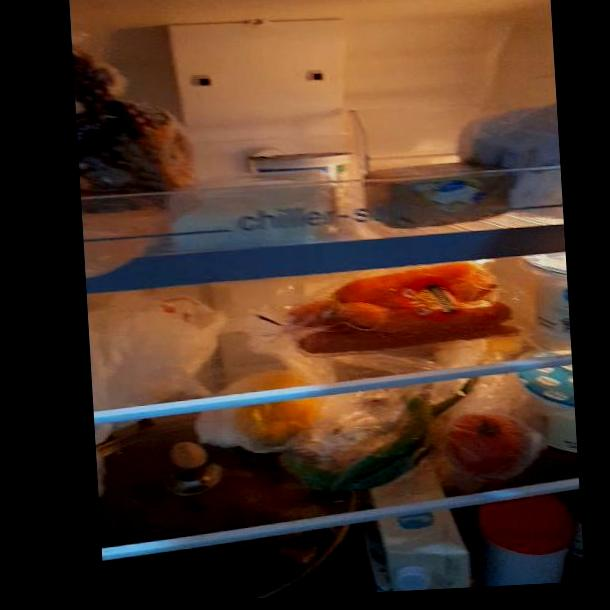bread: (75, 93, 192, 208)
butter: (372, 163, 499, 221)
carrot: (307, 272, 515, 348)
cheese: (178, 177, 327, 240)
green chilies: (348, 404, 444, 473)
lemon: (240, 372, 318, 439)
milk: (371, 513, 470, 592)
tomato: (445, 407, 527, 472)
yoghurt: (525, 366, 576, 446), (252, 149, 352, 188), (529, 254, 572, 333)
